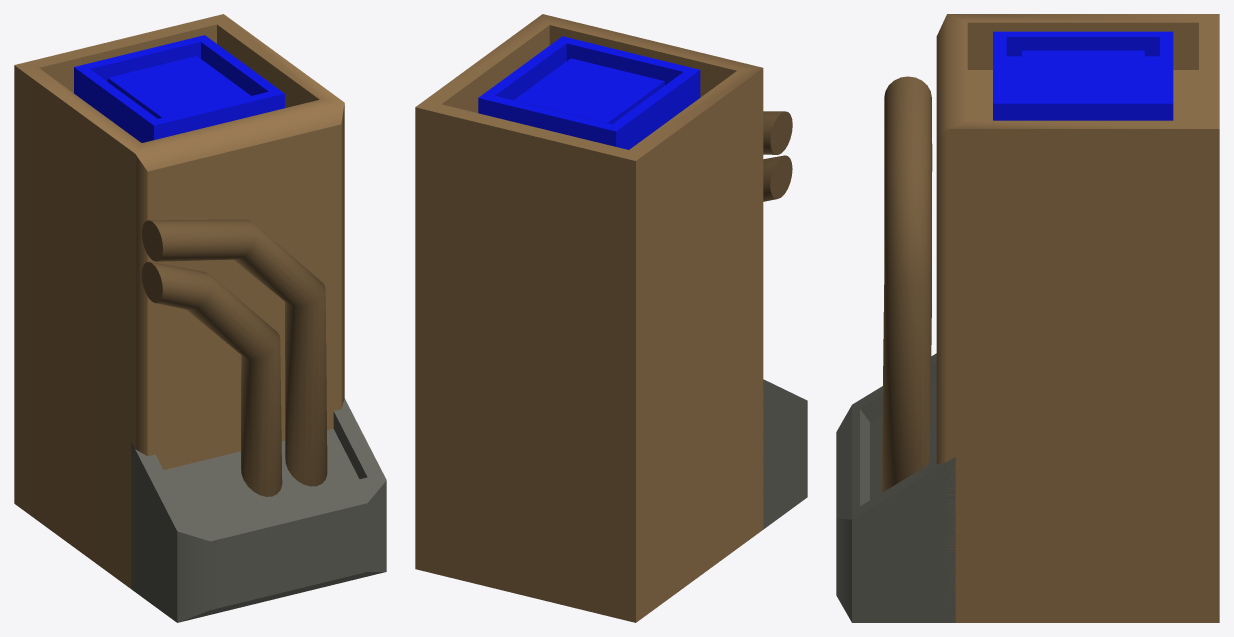
The model's file is JT_WallEnd_R_Temp.fbx.
3 views of the same model, side by side, from view 1: azimuth 30°, elevation 25°; view 2: azimuth 150°, elevation 25°; view 3: azimuth 270°, elevation 25° (orthographic). The views are drawn at different scales.
Parts seen in each view (by area): view 1: JT_WallEnd_R_Temp; view 2: JT_WallEnd_R_Temp; view 3: JT_WallEnd_R_Temp.
Boxes of the visible parts, bbox=[...] form: JT_WallEnd_R_Temp: bbox=[14, 14, 386, 622]; JT_WallEnd_R_Temp: bbox=[415, 14, 807, 622]; JT_WallEnd_R_Temp: bbox=[836, 14, 1219, 622].
Bounding box in the file's own units: 0.5 × 1.01 × 0.703.
